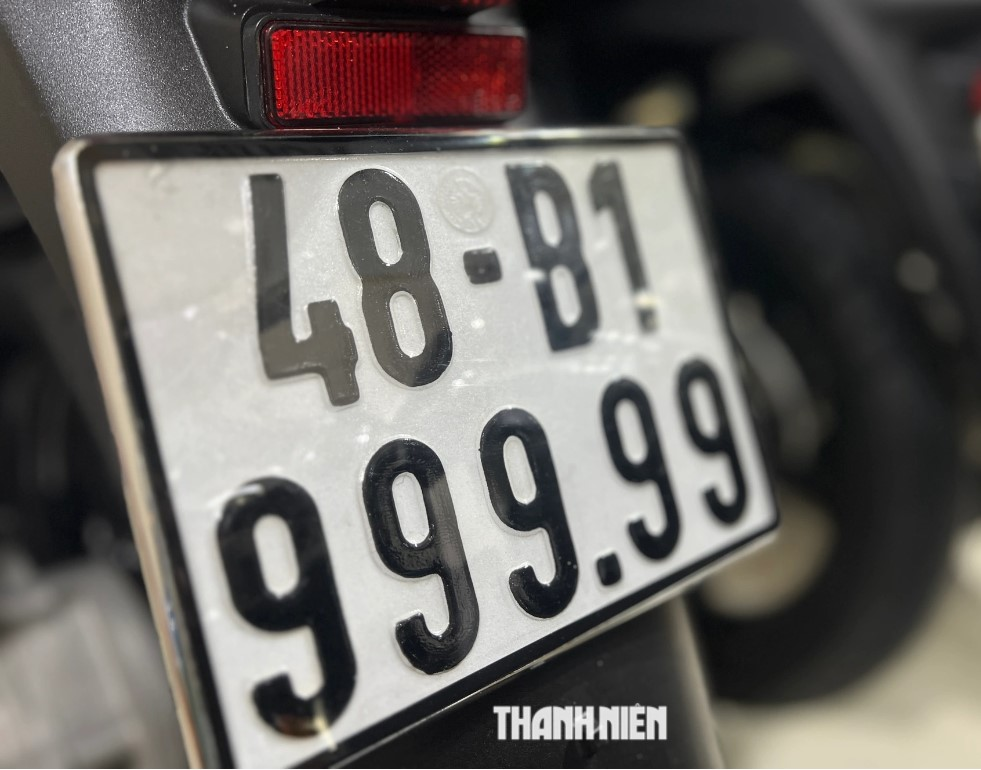bien_so: (42, 107, 797, 769)
